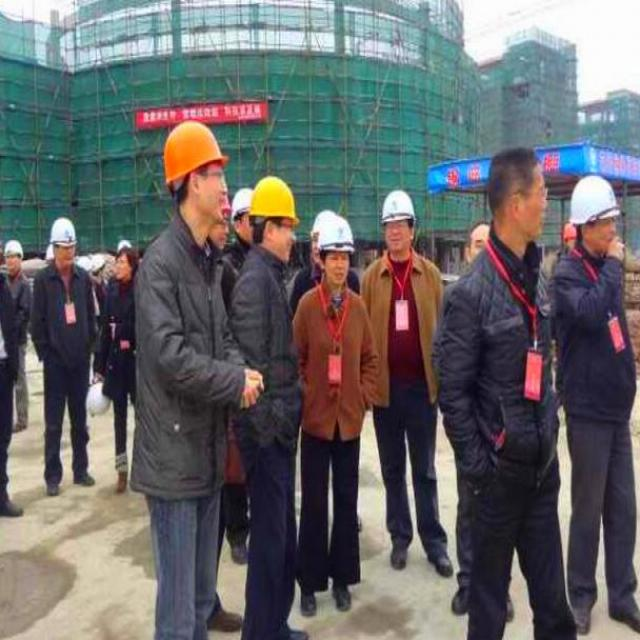helmet: (149, 105, 236, 252), (558, 162, 623, 254), (242, 164, 298, 268), (310, 206, 355, 277), (378, 177, 411, 263), (44, 205, 78, 280), (0, 207, 10, 287)
